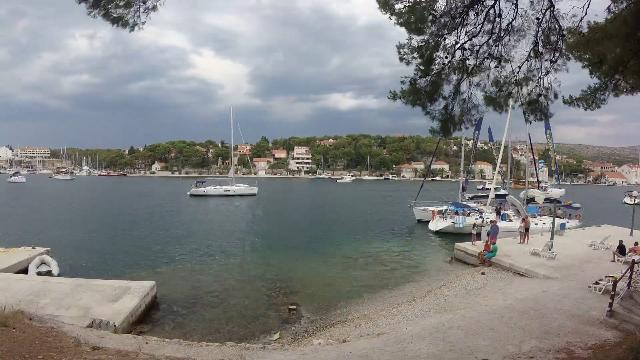Freighter: (48, 162, 82, 184)
Sailboat: (184, 176, 264, 200), (4, 168, 32, 188)
speedboat: (334, 174, 356, 187)
